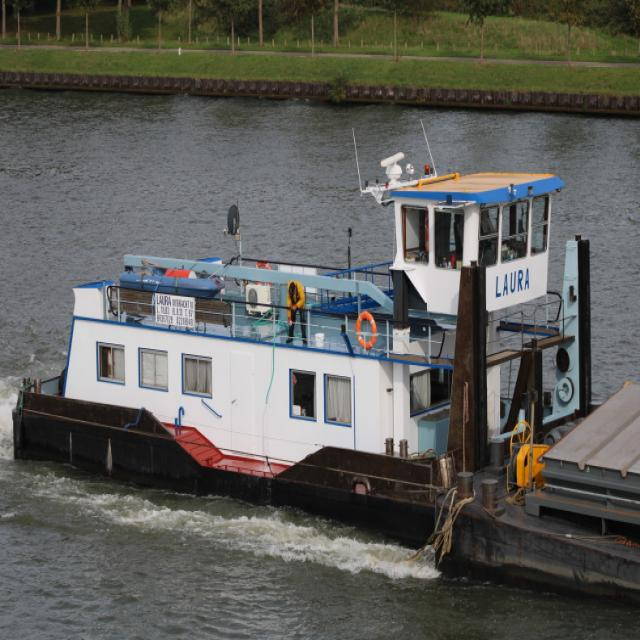tugboat: (10, 154, 605, 556)
